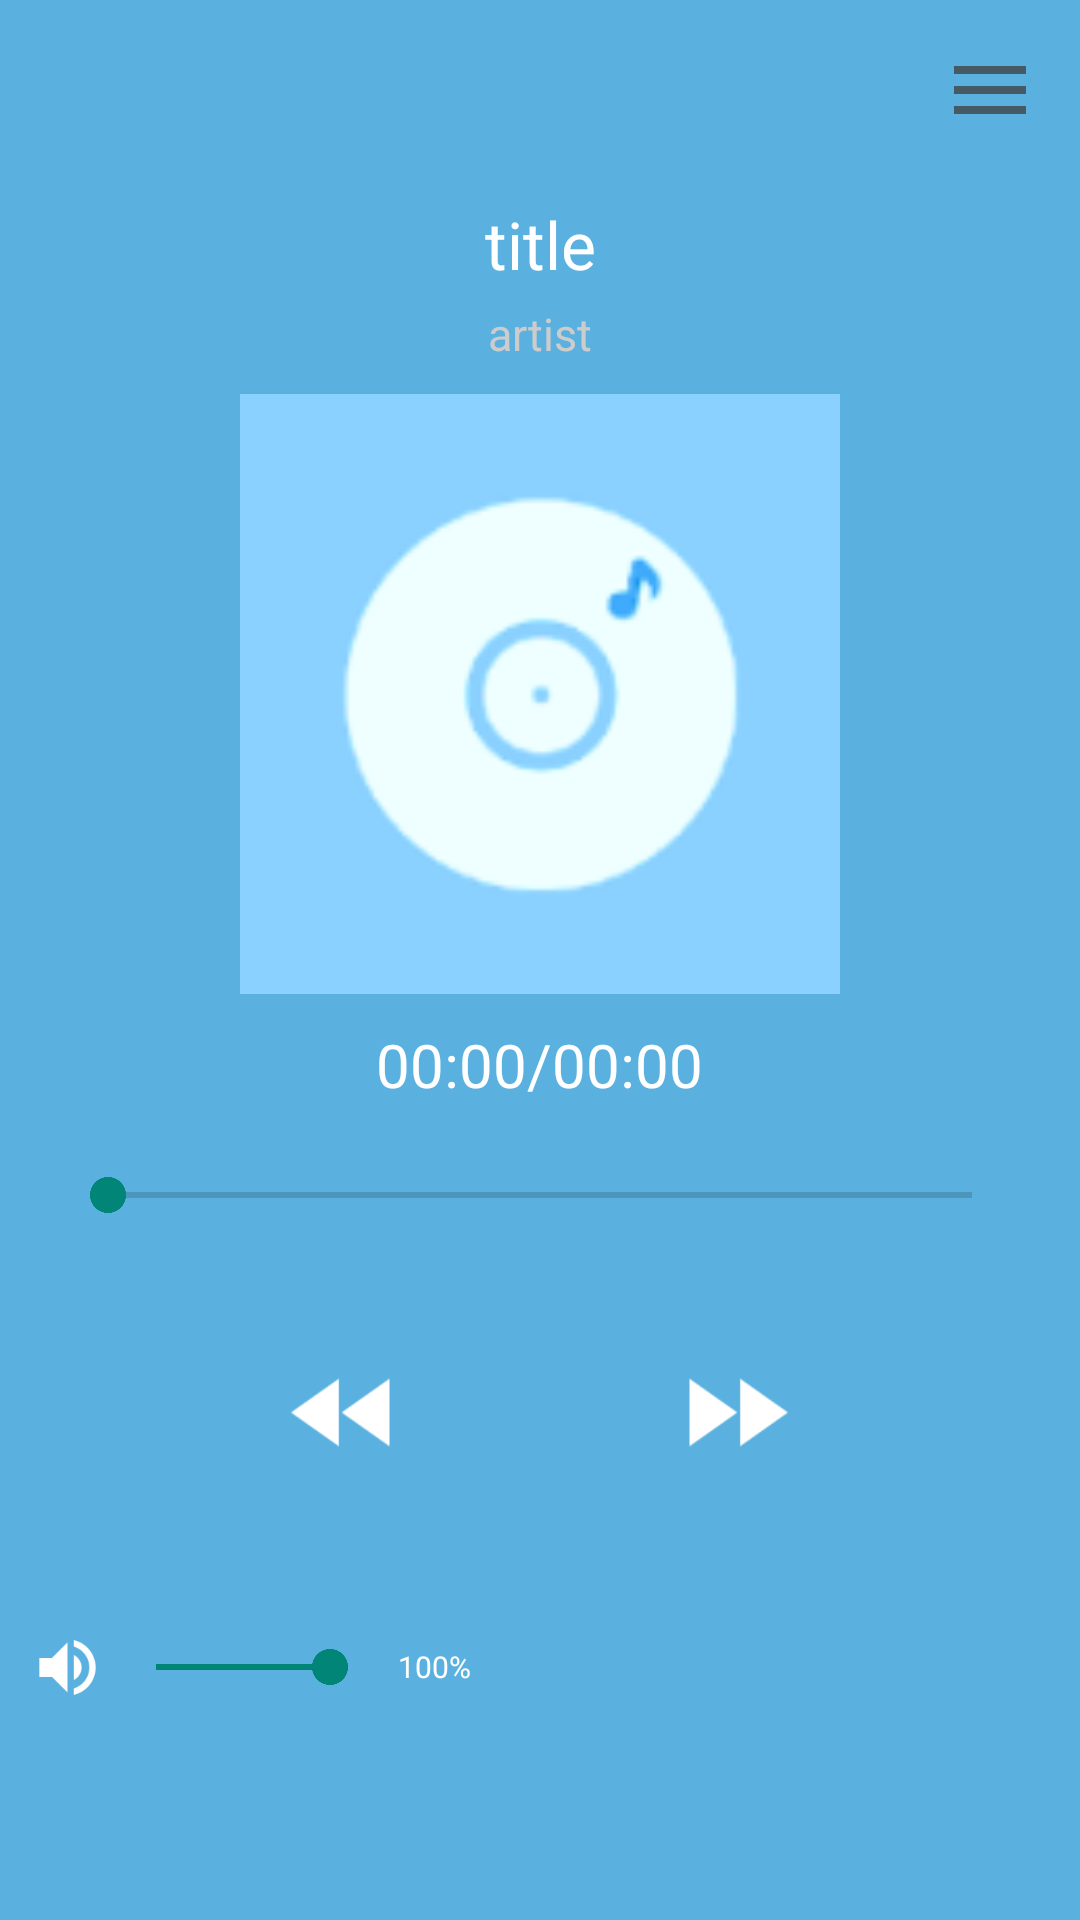

Icon bounding boxes for this 1080×1920 phone screenshot, format (x1, y1, x2, y2):
fast forward: (689, 1378, 788, 1447)
menu: (954, 66, 1026, 114)
rewind: (291, 1378, 390, 1447)
volume high: (39, 1640, 96, 1695)
